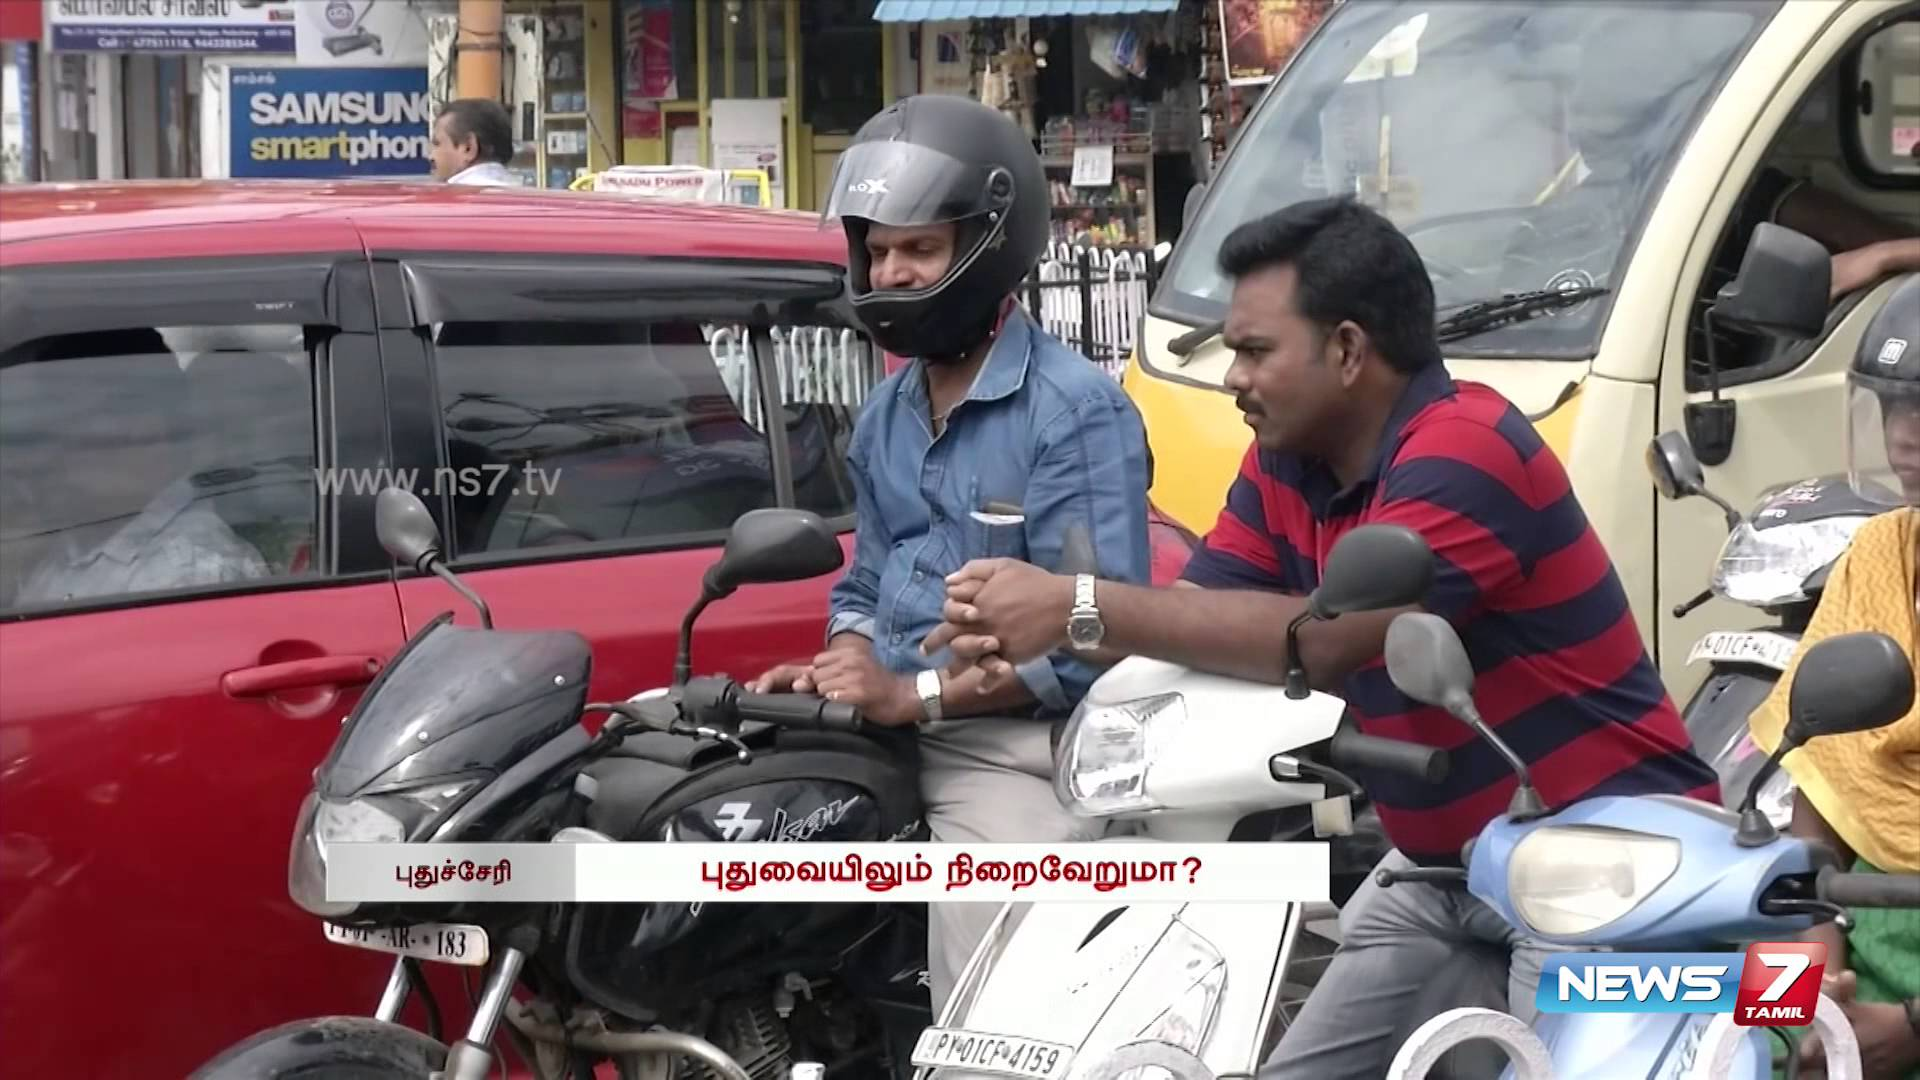helmet: (829, 99, 1044, 331)
